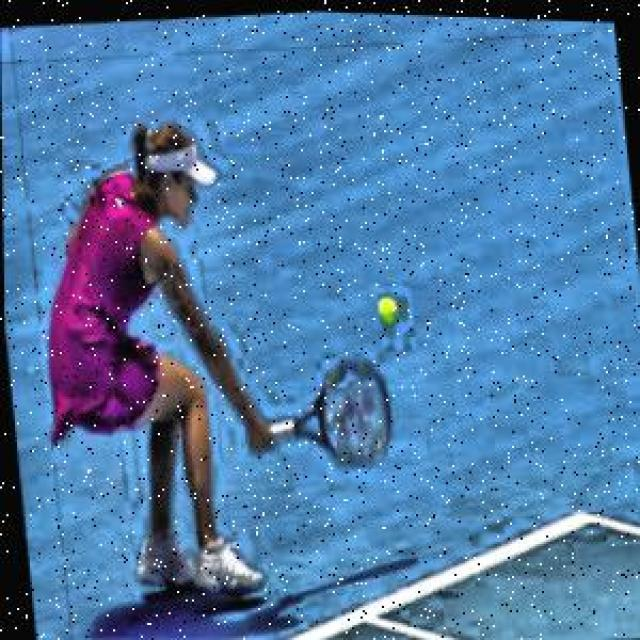tennis-ball: (378, 288, 408, 329)
